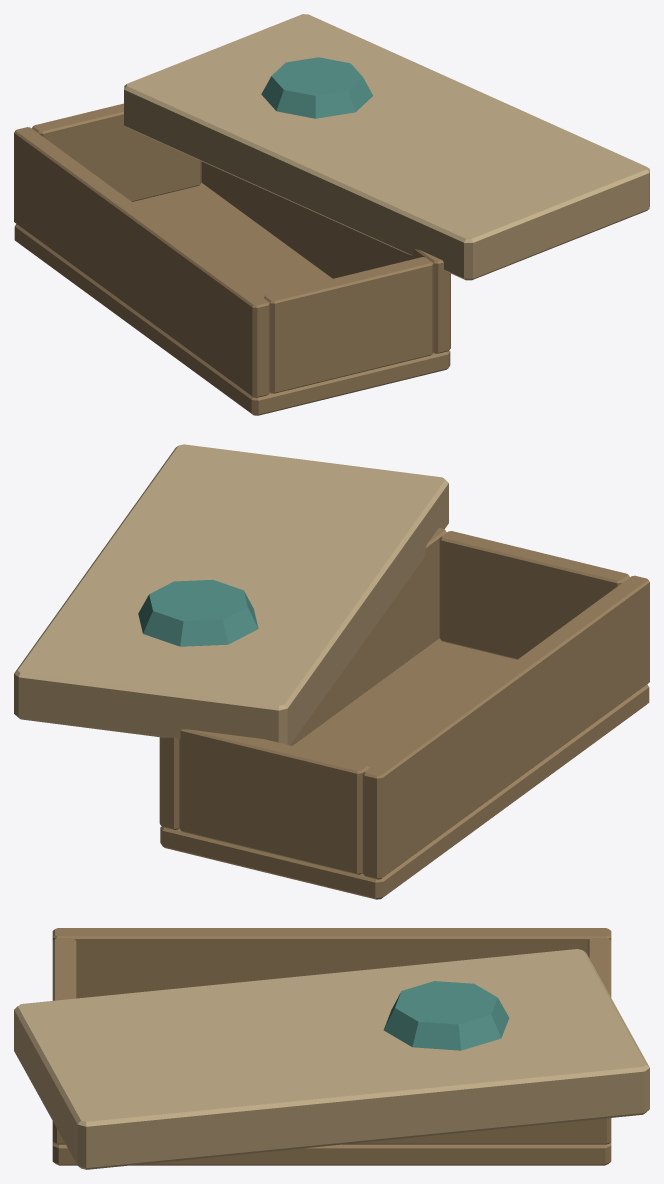
The model's file is sarcophagus-open.glb.
The picture shows the model from 3 angles, top to bottom: view 1: azimuth 30°, elevation 25°; view 2: azimuth 150°, elevation 25°; view 3: azimuth 270°, elevation 25°; orthographic projection. The views are drawn at different scales.
Visible parts, largest first — view 1: sarcophagus-open__body; view 2: sarcophagus-open__body; view 3: sarcophagus-open__body.
Part boxes in pixels (<box>): sarcophagus-open__body: <box>14,14,649,415</box>; sarcophagus-open__body: <box>14,444,649,899</box>; sarcophagus-open__body: <box>14,928,649,1169</box>.
Bounding box in the file's own units: 1.86 × 0.69 × 2.16.
